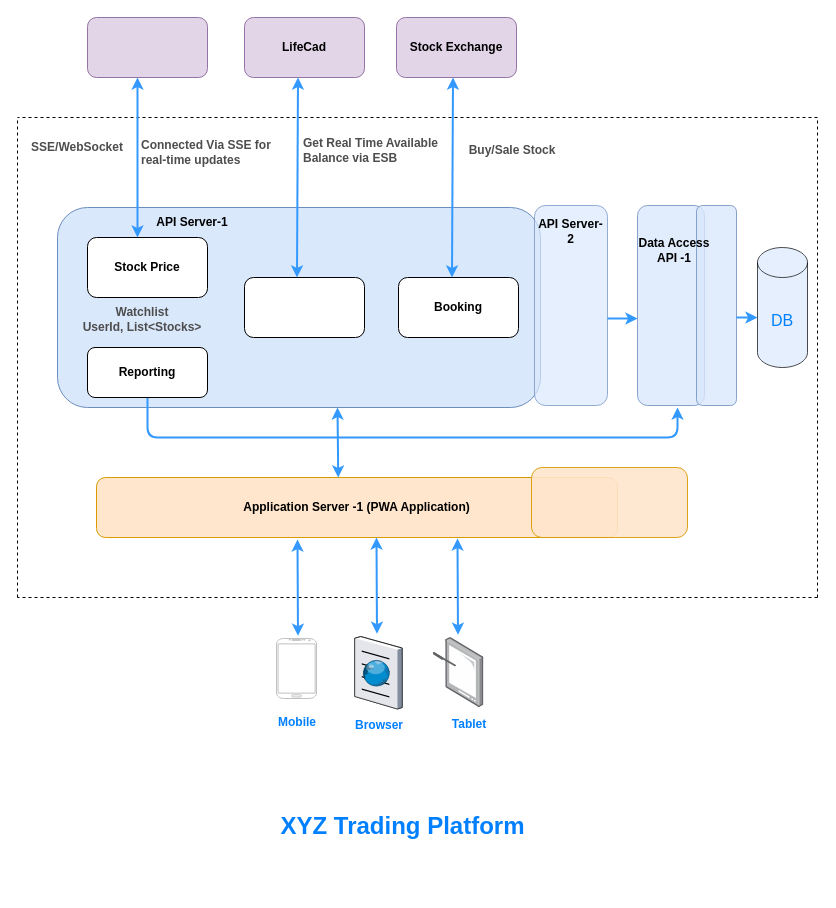
The diagram is 836 pixels wide and 908 high, and some of its shapes have lost their labels. Each missing label, with the centre of its shape:
"Application Server -2" belongs at point 609,502.
"Computation" belongs at point 304,307.
"DA-2" belongs at point 716,305.
"Stock Price Exchange/Provider" belongs at point 147,47.
